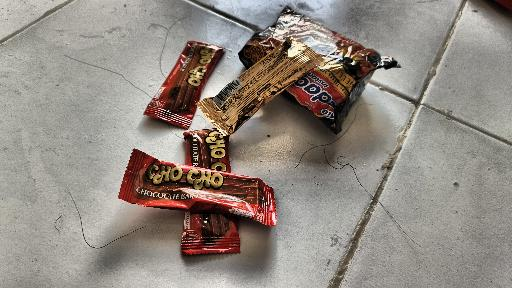chocho: (105, 143, 286, 234), (178, 129, 241, 255), (141, 36, 217, 131)
mie sedap: (233, 3, 371, 130)
top: (195, 44, 319, 132)
